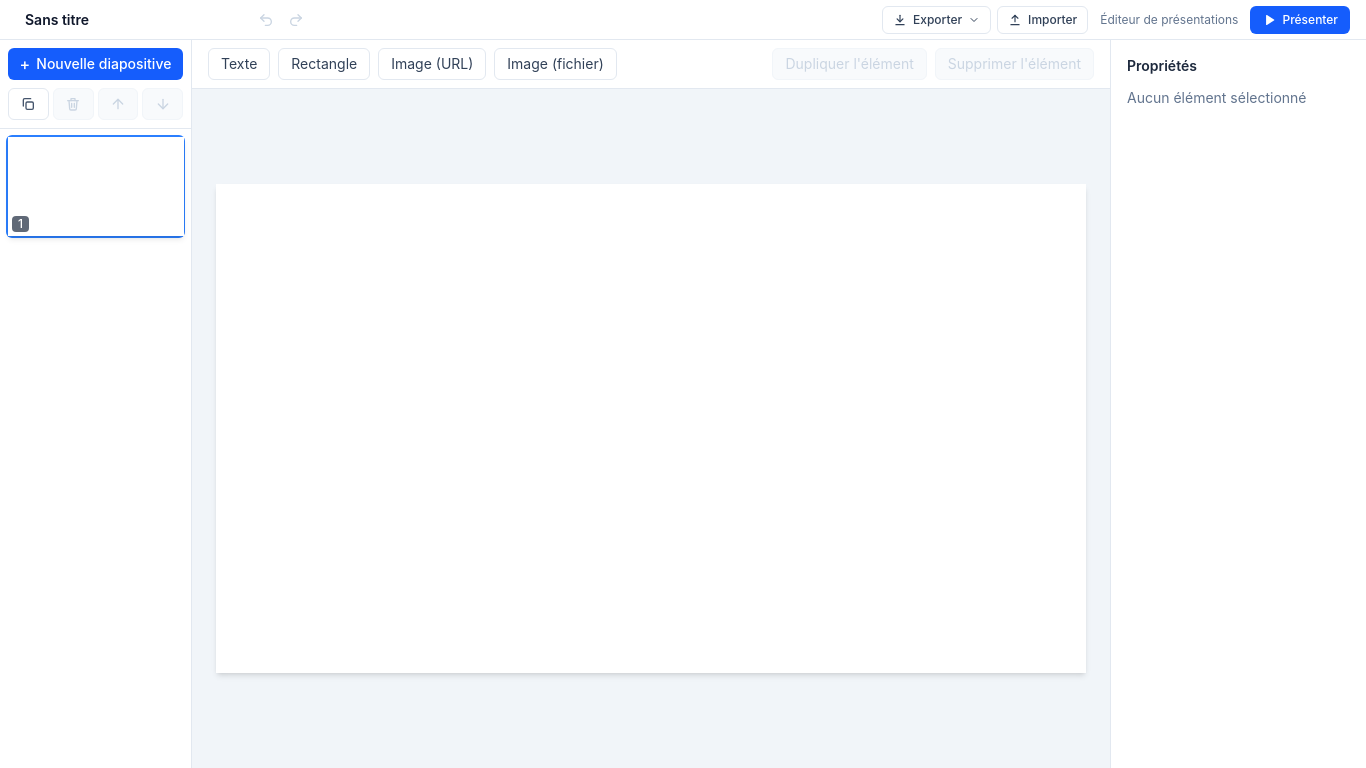
Scenario: EditorLayout : ajout et sélection d'éléments › Texte ajoute un texte dans la zone centrale et le sélectionne
The width and height of the screenshot is (1366, 768).
What coordinates should you click on to do the following:
click the button "Texte"
I would click on:
 (239, 64)
Its box is [208, 48, 270, 80].
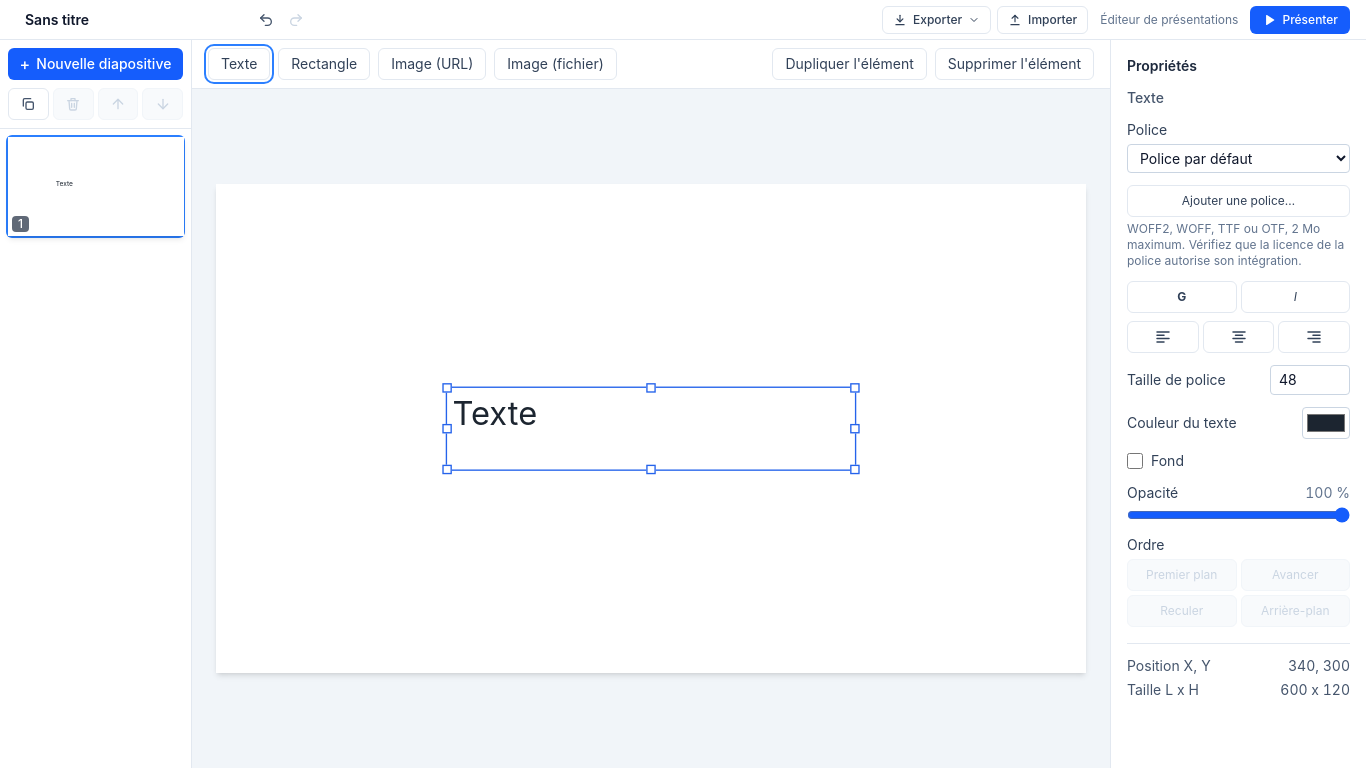
Expected: the 2nd text "Texte" is shown, [452, 393, 537, 433]
Expected: the heading "Texte" is shown, [1127, 89, 1164, 106]
Expected: the number of elements with test id "selection-frame" is 1, [447, 388, 855, 469]
